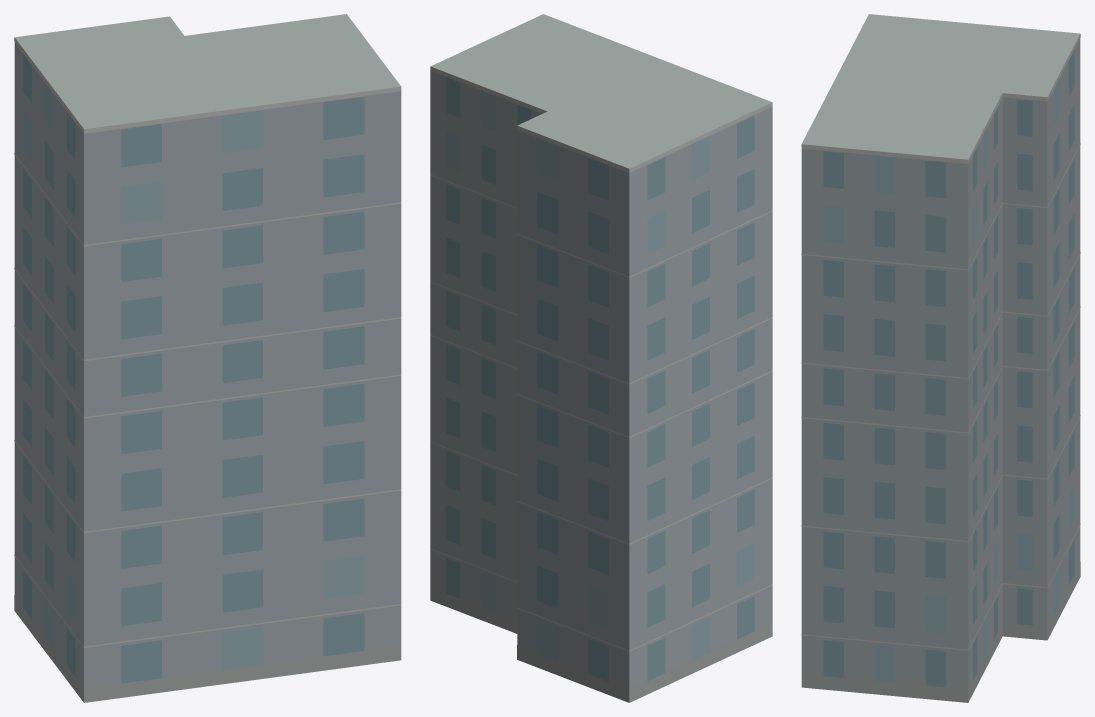
The model's file is residential-aa2b2255-1d0e-4381-97b1-3676eb811929.glb.
3 renders of one model, left to right at view 1: azimuth 30°, elevation 25°; view 2: azimuth 150°, elevation 25°; view 3: azimuth 270°, elevation 25°, orthographic. The views are drawn at different scales.
Parts seen in each view (by area): view 1: residential-aa2b2255-1d0e-4381-97b1-3676eb811929.tmp; view 2: residential-aa2b2255-1d0e-4381-97b1-3676eb811929.tmp; view 3: residential-aa2b2255-1d0e-4381-97b1-3676eb811929.tmp.
Part boxes in pixels (x1=…): residential-aa2b2255-1d0e-4381-97b1-3676eb811929.tmp: x1=14, y1=14, x2=401, y2=702; residential-aa2b2255-1d0e-4381-97b1-3676eb811929.tmp: x1=430, y1=14, x2=772, y2=702; residential-aa2b2255-1d0e-4381-97b1-3676eb811929.tmp: x1=801, y1=14, x2=1080, y2=702.
Bounding box in the file's own units: 17.56 × 30.5 × 14.22.
